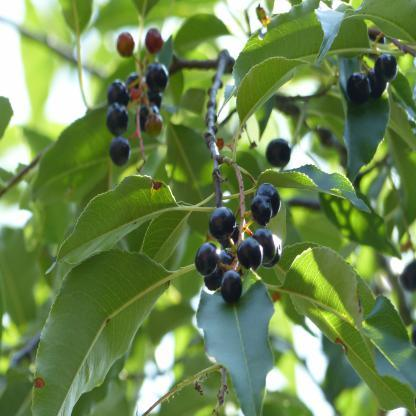Cherry leaf: (35, 248, 177, 416), (282, 250, 416, 413), (188, 266, 291, 416), (48, 166, 184, 272), (223, 10, 332, 136)
